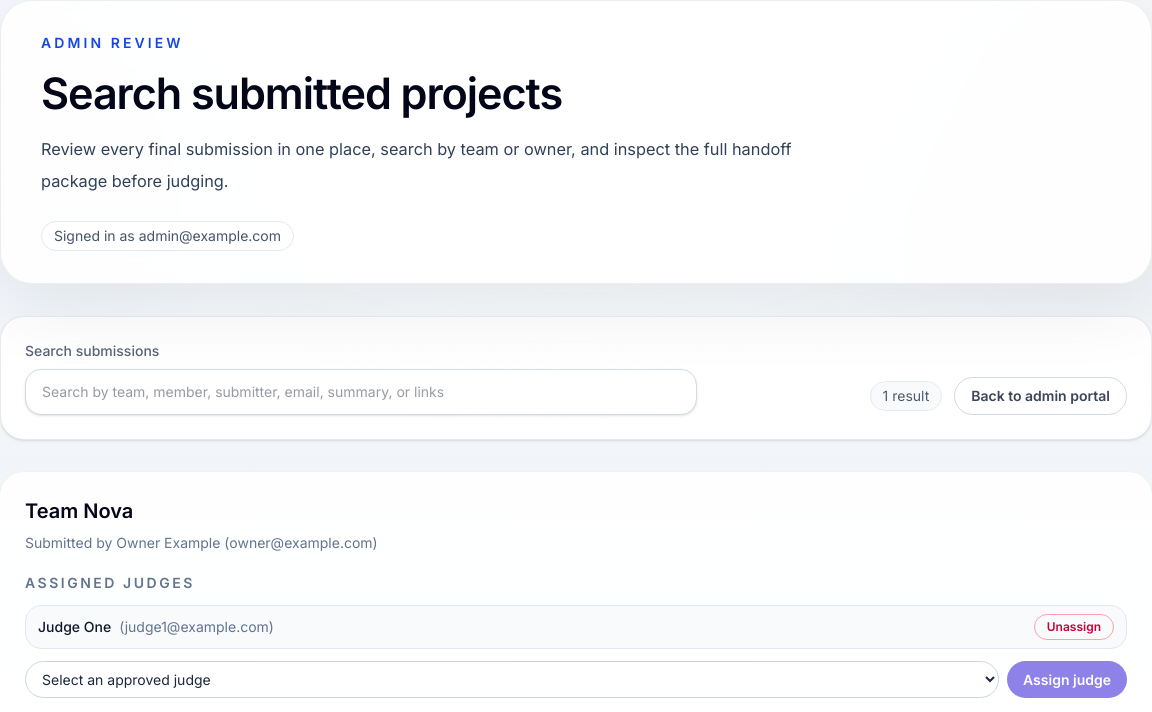
it: AdminSubmissionsPage › lets an admin unassign a judge from a project
This screenshot has width=1152, height=712.
Click the button with aria-label "Unassign Judge One from Team Nova" at point(1074, 627), box [1034,614,1114,640]
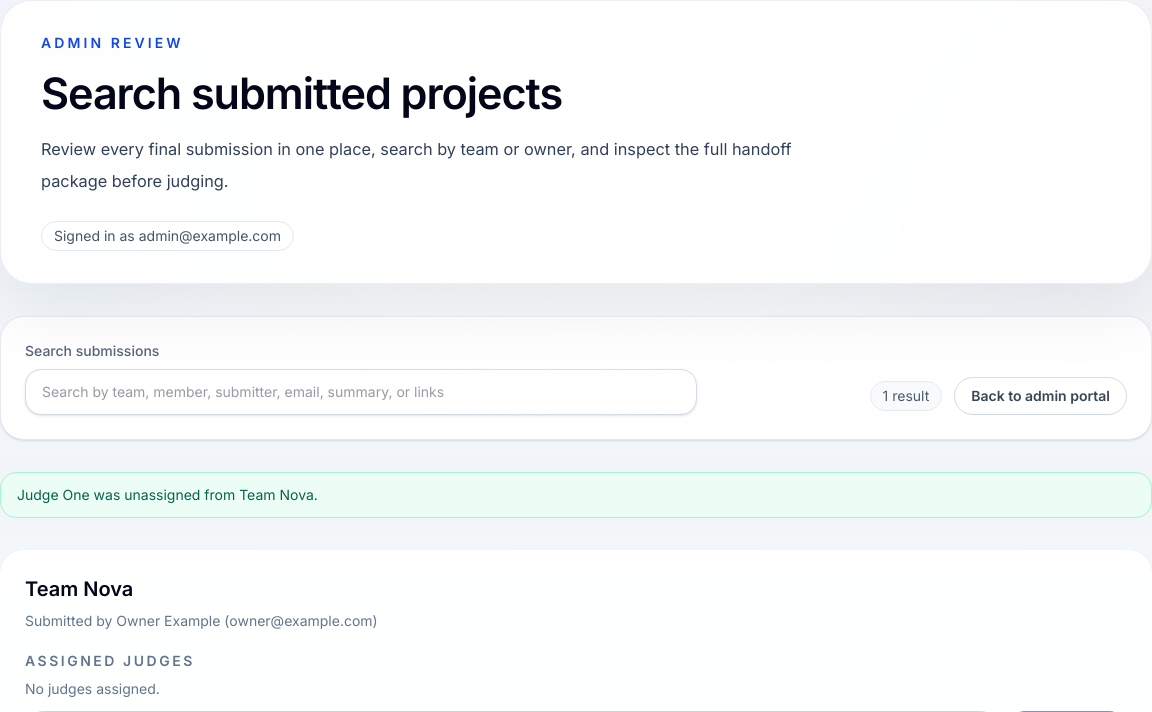
Now the message reads "Judge One was unassigned from Team Nova.", box [17,486,318,503]
Now the text "No judges assigned." is shown, box [25,680,160,697]
